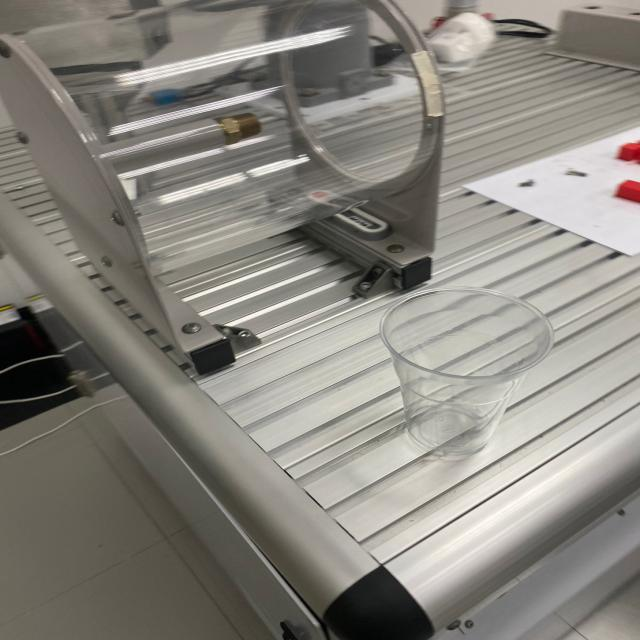glass: (375, 284, 562, 462)
